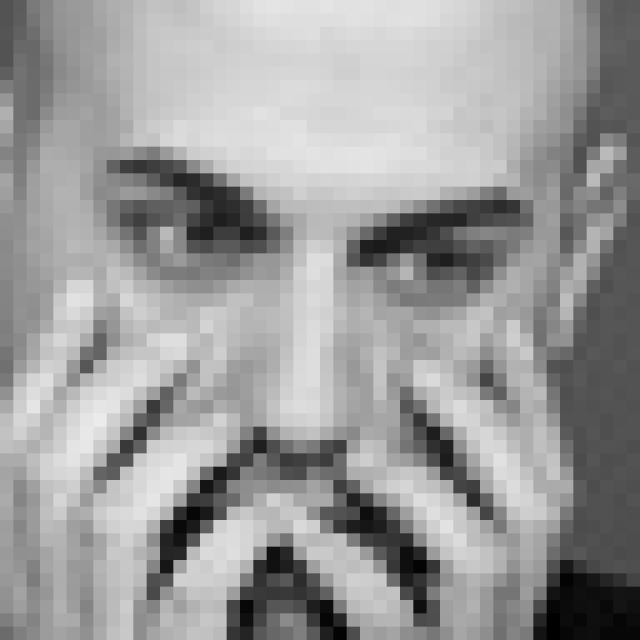fear: (94, 139, 539, 612)
